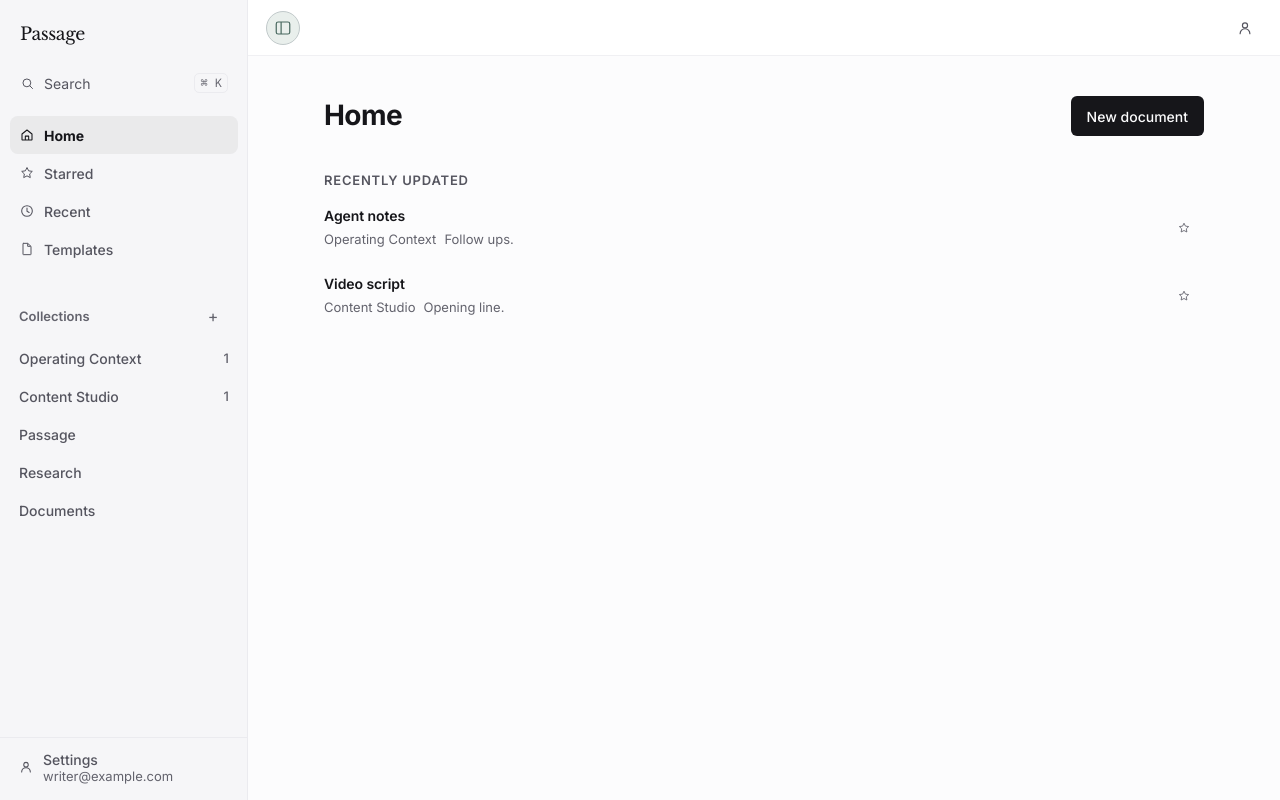
Test case: Write (editor) › scopes workspace search to persisted collection membership without inferring tags
Click the button with class "workspaceDocumentOpen" that starts with "Agent notes" at (364, 216), box [324, 194, 1168, 262]
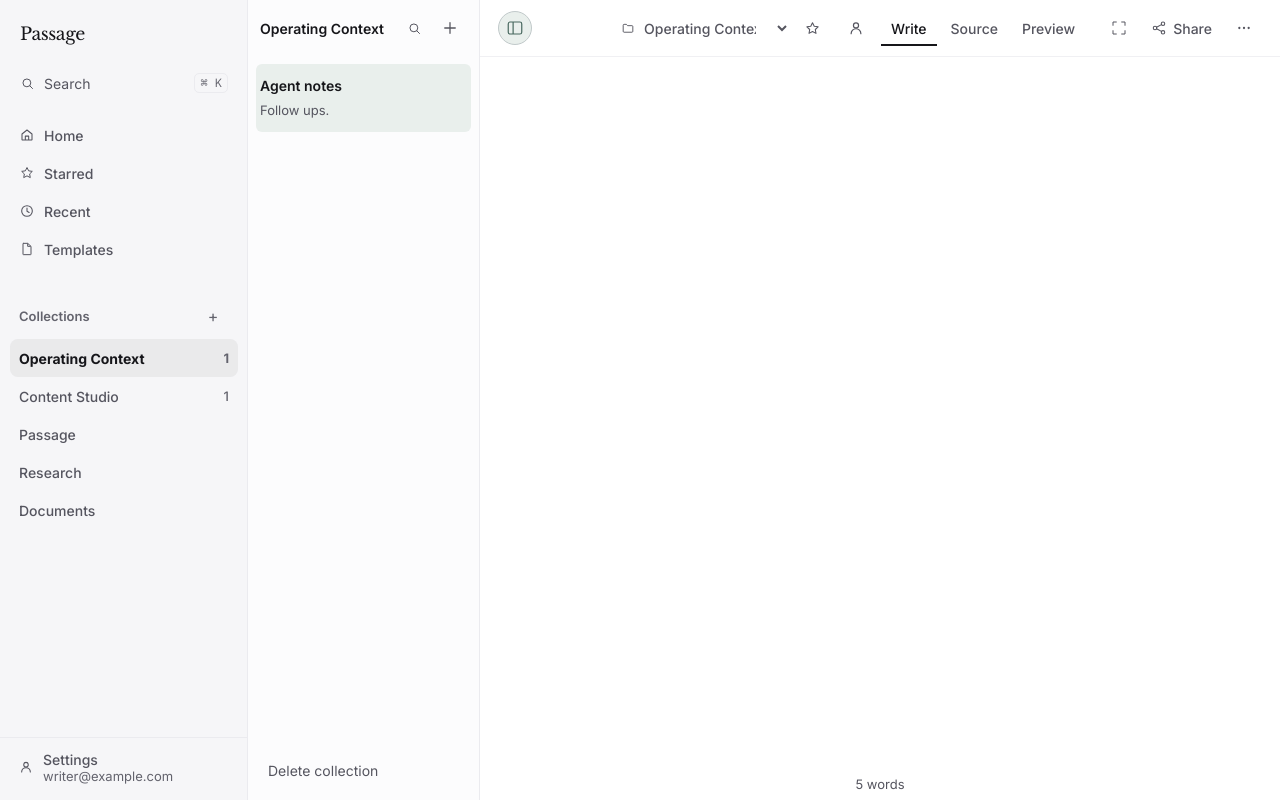
Press k
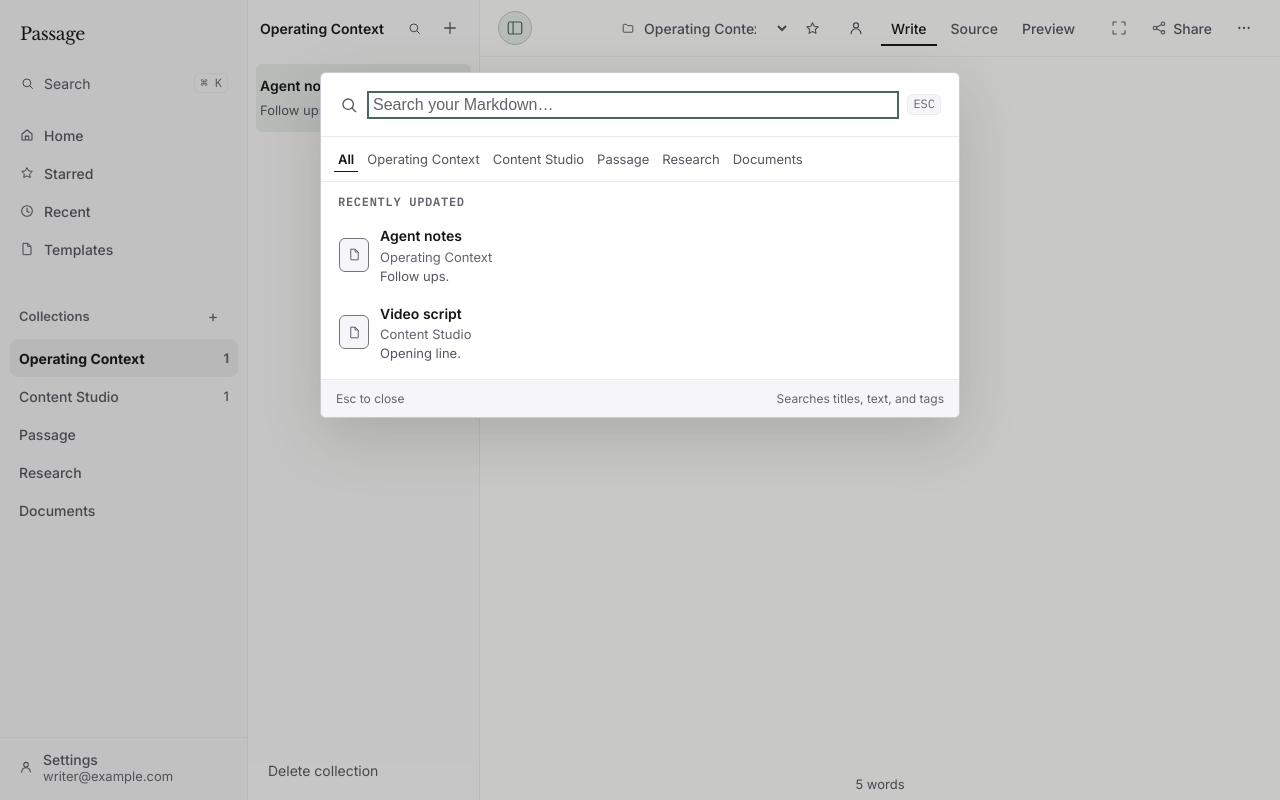
Click the button "Content Studio" at (538, 159), box [489, 146, 588, 172]
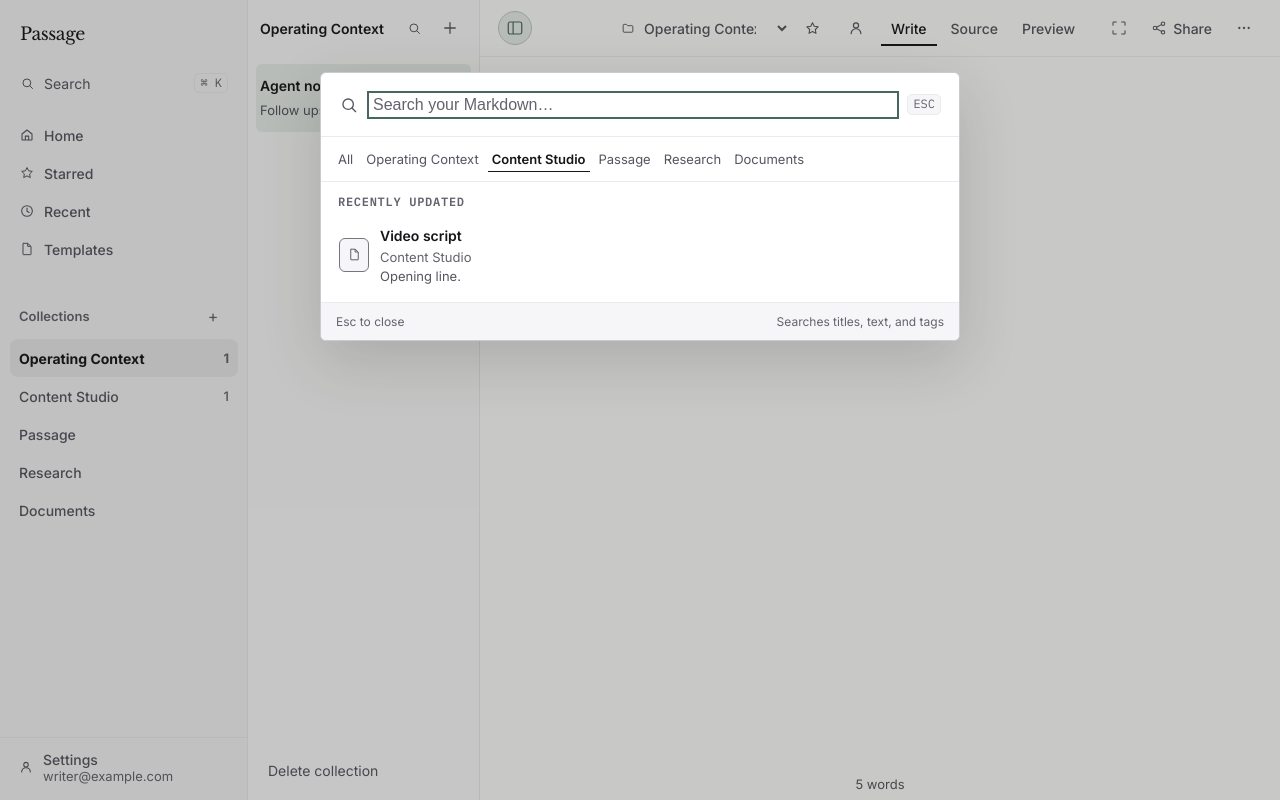
Expected: the button "Video script Content Studio Opening line." is shown, [329, 216, 951, 294]
Click the button "All" at (346, 159), box [334, 146, 357, 172]
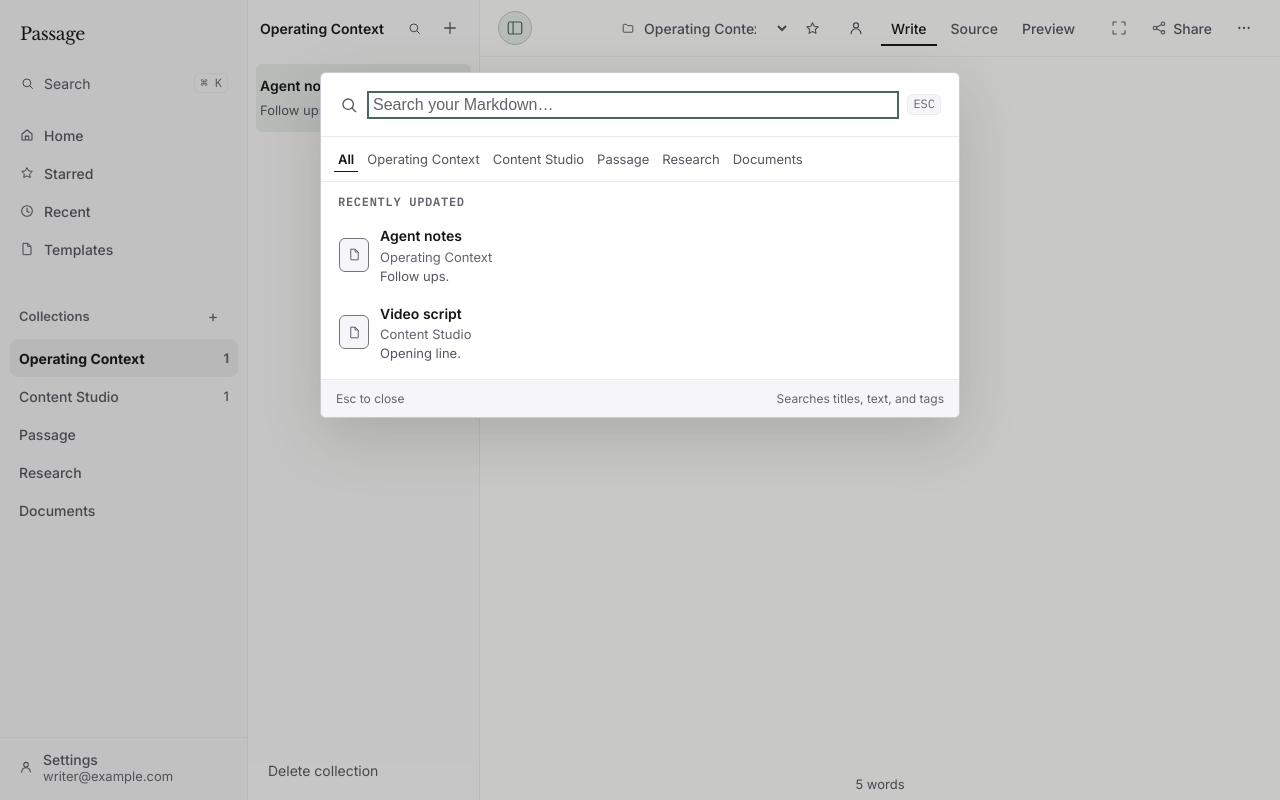
Expected: the button "Agent notes Operating Context Follow ups." is shown, [329, 216, 951, 294]
